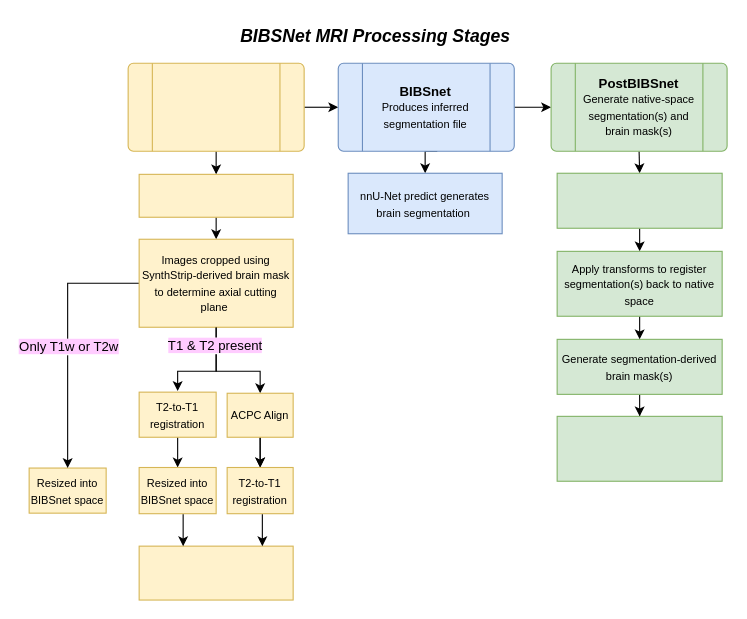
The diagram is 747 pixels wide and 619 high, and some of its shapes have lost their labels. Here are the shapes that lost their labels. From the top down, the box of each, then its label:
(127, 62, 304, 151): PreBIBSnet Prepares images for BIBSnet
(138, 173, 293, 217): Images averaged to first run
(556, 172, 722, 228): Inverse cropping/resampling transforms
(556, 415, 722, 481): Output segmentation, brain mask, and associated json files to derivatives folder
(138, 545, 293, 600): Cost function chooses image pair with best T2-to-T1 registration
